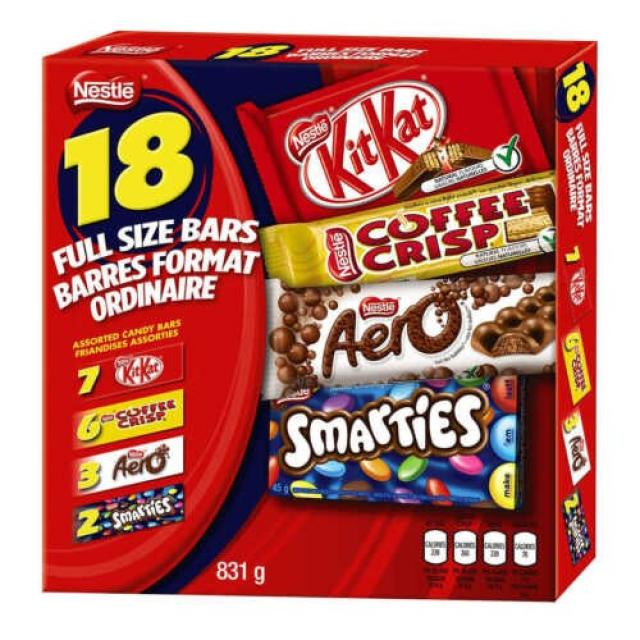food-package: (40, 56, 576, 576)
